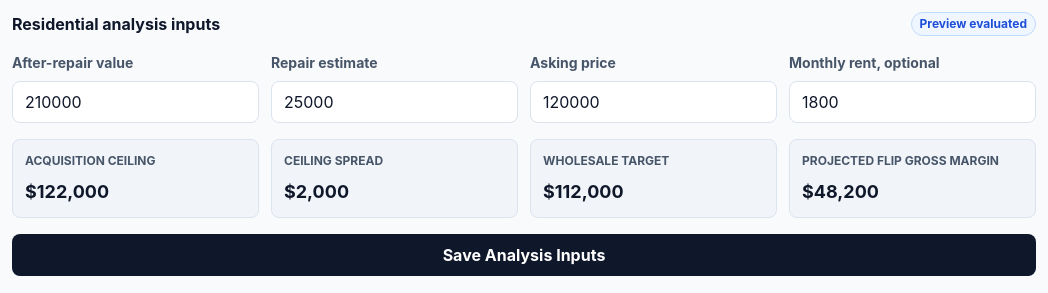
Test: residential analysis consumers › does not revive a stale repair alias after the editable value is cleared
Clear the field labelled "Repair estimate" at (394, 102), box [271,81,518,123]
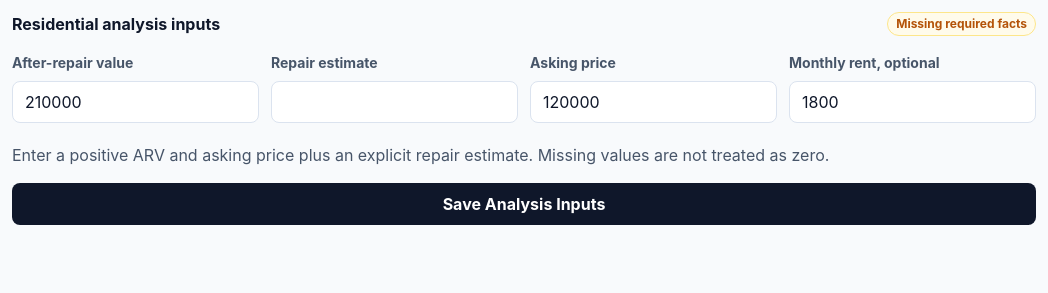
Check: the text "Missing required facts" is shown, box [887,12,1036,36]
Check: the text "$122,000" is gone
